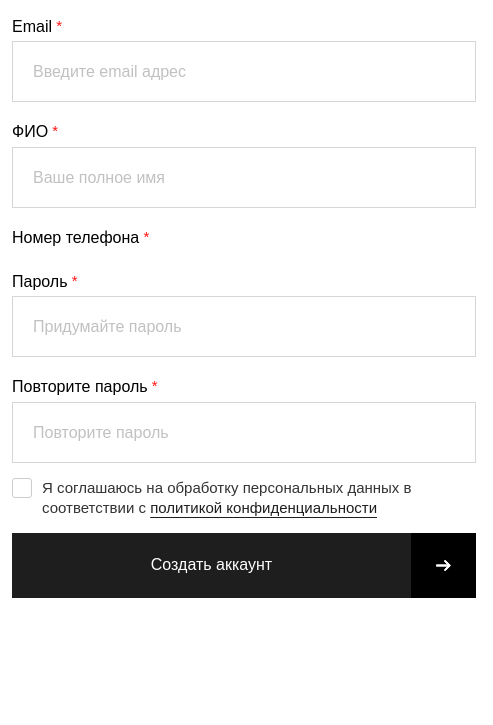
Test: RegistrationForm › Валидация полей › должен показать ошибку для слабого пароля
Type "123" into the password field with test id "RegistrationForm.password". click: x=244, y=327
box: [12,296,476,357]
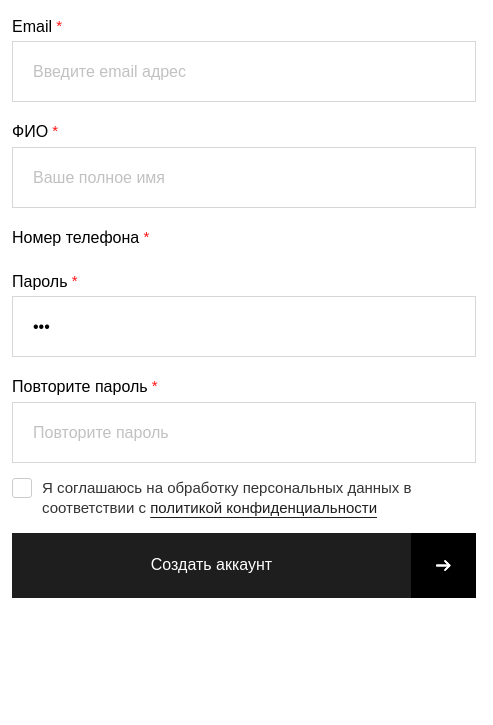
Click the button with test id "RegistrationForm.submitBtn". click: x=244, y=565
box: [12,533,476,598]
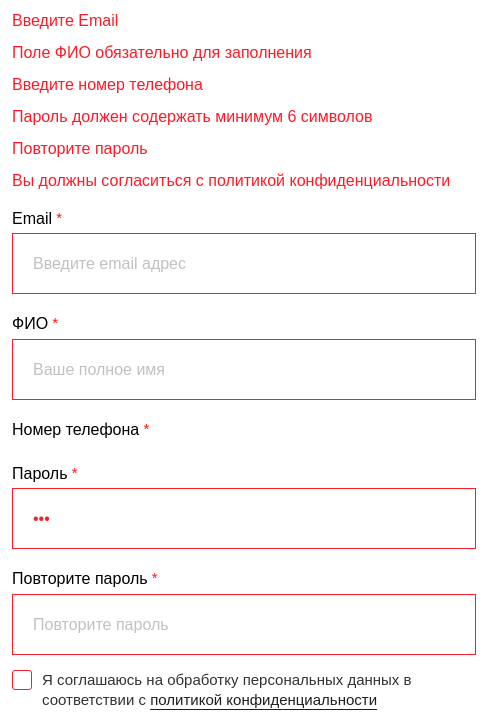
Check: the text "Пароль должен содержать минимум 6 символов" is shown, box [12,108,372,125]
